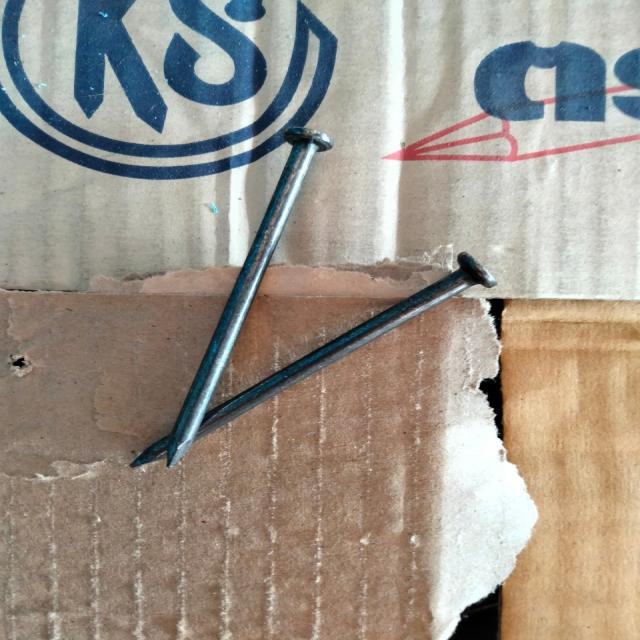3x8 nail: (95, 238, 543, 476), (115, 110, 384, 478)
